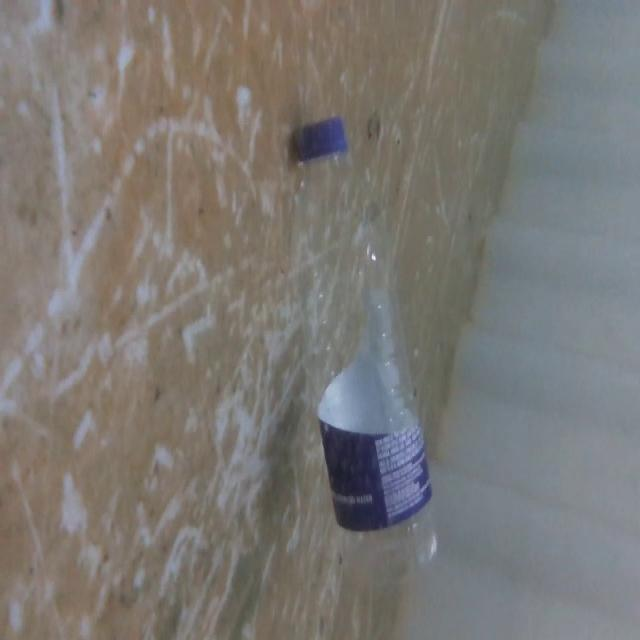plastic bottle: (289, 116, 452, 594)
